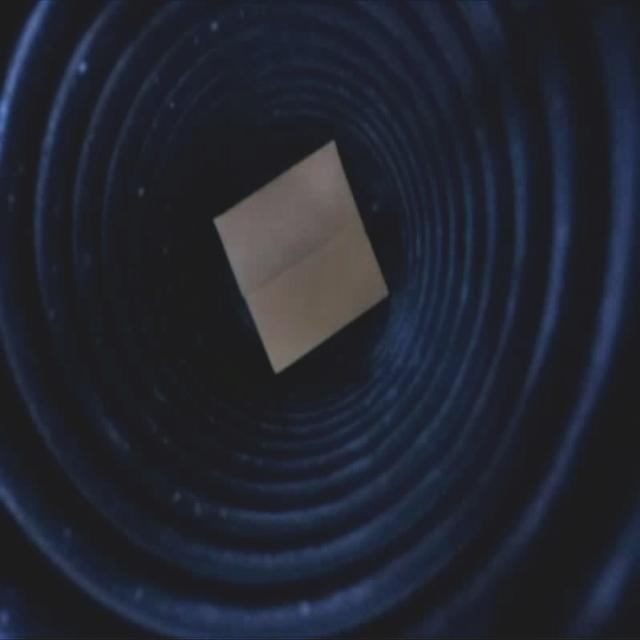obstacles: (215, 137, 393, 376)
